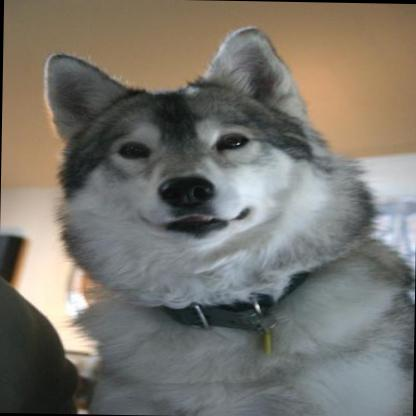Siberian_husky: (34, 19, 416, 416)
